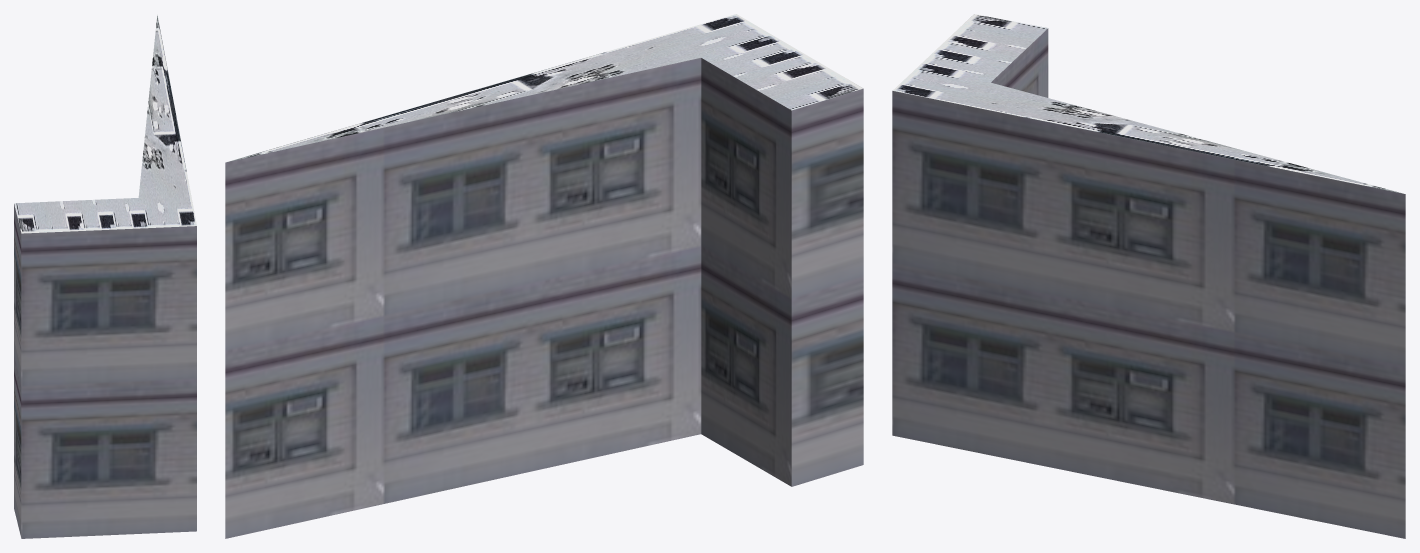
Rendered from ResTex__2084.fbx.
The picture shows the model from 3 angles, left to right: view 1: azimuth 30°, elevation 25°; view 2: azimuth 150°, elevation 25°; view 3: azimuth 270°, elevation 25°; orthographic projection. The views are drawn at different scales.
Visible parts, largest first — view 1: CityEngineMaterial_1_m, CityEngineMaterial_m; view 2: CityEngineMaterial_1_m, CityEngineMaterial_m; view 3: CityEngineMaterial_1_m, CityEngineMaterial_m.
Boxes of the visible parts, left/top/right/bottom form: CityEngineMaterial_1_m: left=14, top=204, right=196, bottom=538; CityEngineMaterial_m: left=14, top=15, right=196, bottom=233; CityEngineMaterial_1_m: left=225, top=58, right=863, bottom=538; CityEngineMaterial_m: left=228, top=14, right=863, bottom=161; CityEngineMaterial_1_m: left=892, top=28, right=1405, bottom=538; CityEngineMaterial_m: left=892, top=14, right=1402, bottom=193.
Bounding box in the file's own units: 6.72 × 6 × 8.09.
2 materials, 2 textured.
